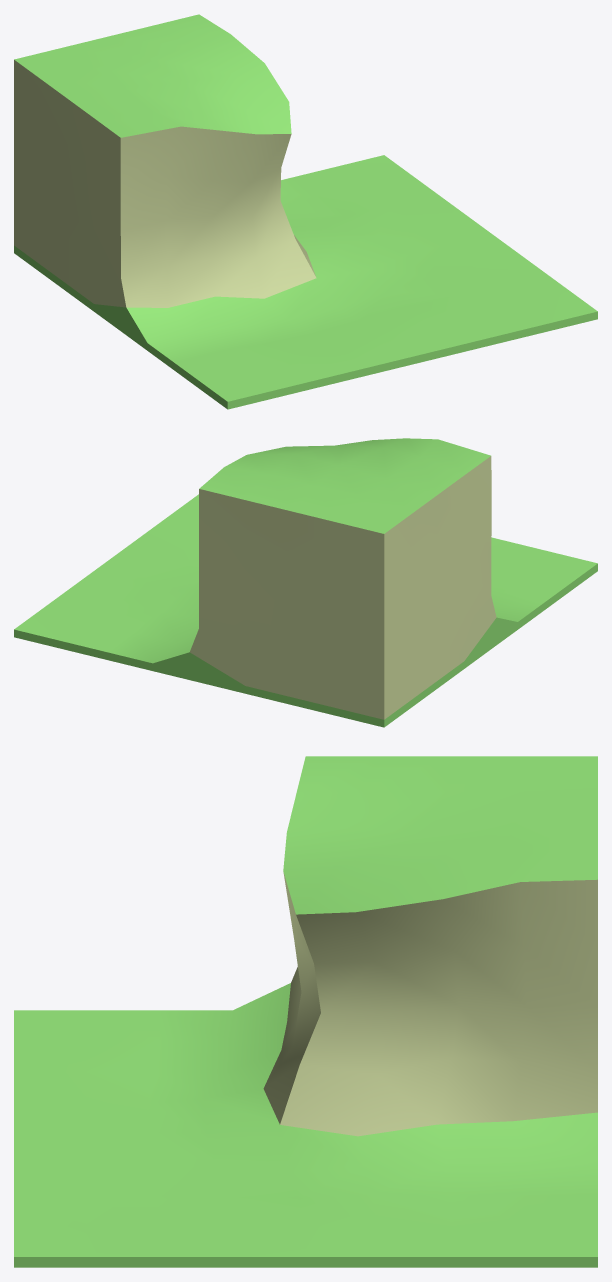
The model's file is wall_concave_1.glb.
3 views of the same model, one above another, from view 1: azimuth 30°, elevation 25°; view 2: azimuth 150°, elevation 25°; view 3: azimuth 270°, elevation 25° (orthographic). The views are drawn at different scales.
Parts seen in each view (by area): view 1: wall_concave_1; view 2: wall_concave_1; view 3: wall_concave_1.
Boxes of the visible parts, x1=… form: wall_concave_1: x1=14, y1=14, x2=597, y2=409; wall_concave_1: x1=14, y1=438, x2=597, y2=727; wall_concave_1: x1=14, y1=756, x2=597, y2=1267.
Bounding box in the file's own units: 2 × 1.02 × 2.
